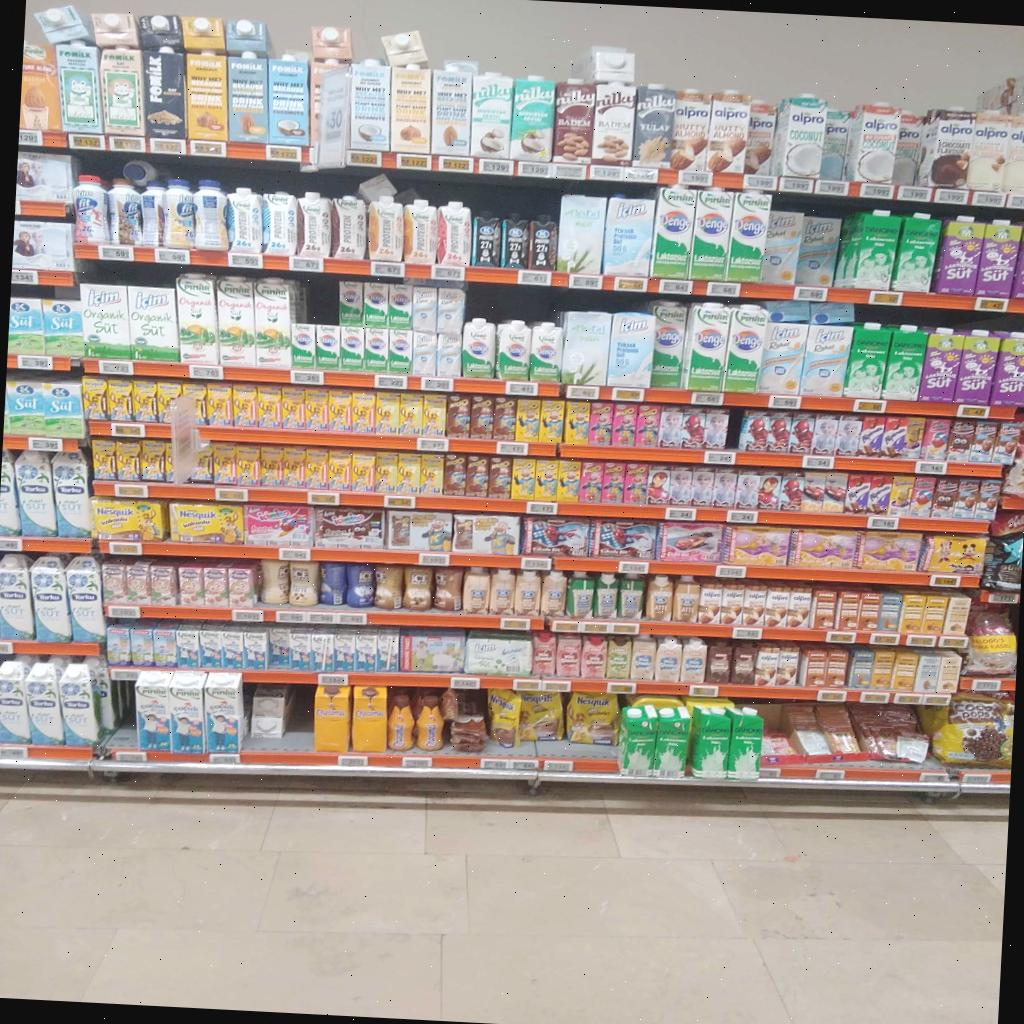price_tag: (436, 154, 474, 174), (550, 163, 588, 181), (658, 278, 694, 296), (418, 376, 454, 394), (706, 280, 742, 298), (290, 369, 325, 387), (150, 138, 187, 155), (190, 141, 227, 158), (265, 145, 302, 162), (98, 245, 134, 262), (227, 252, 263, 269), (155, 248, 191, 265), (370, 260, 404, 278), (974, 296, 1008, 314), (68, 134, 106, 150), (504, 381, 539, 398), (347, 151, 382, 168), (678, 170, 713, 187), (625, 166, 658, 184), (110, 137, 147, 153), (814, 180, 848, 197), (290, 256, 324, 273), (214, 488, 250, 504), (778, 177, 814, 193), (859, 183, 895, 199), (309, 611, 350, 625), (934, 189, 969, 205), (99, 360, 134, 376), (971, 192, 1006, 208), (479, 160, 514, 176), (896, 187, 933, 202), (397, 154, 431, 170), (590, 165, 624, 181), (615, 276, 647, 293), (16, 355, 52, 370), (107, 541, 143, 556), (28, 437, 64, 452), (768, 394, 801, 410), (431, 266, 466, 281), (189, 365, 224, 380), (449, 675, 481, 691), (496, 441, 528, 457), (518, 270, 552, 285), (115, 483, 149, 498), (111, 423, 145, 438), (794, 287, 828, 302), (416, 438, 450, 453), (853, 399, 886, 414), (957, 404, 990, 419), (374, 375, 407, 390), (383, 495, 416, 510), (569, 275, 602, 290), (565, 386, 600, 400), (607, 622, 639, 637), (915, 460, 947, 475), (518, 162, 550, 177), (106, 605, 140, 619), (744, 176, 778, 190), (869, 292, 903, 306), (526, 501, 557, 516), (690, 392, 723, 406), (307, 492, 340, 506), (231, 609, 264, 623), (334, 612, 367, 626), (612, 387, 644, 401), (418, 553, 450, 567), (726, 510, 758, 524), (867, 516, 899, 530), (278, 548, 312, 561), (715, 565, 746, 579), (970, 678, 1001, 692), (869, 632, 900, 646), (665, 507, 696, 521), (542, 759, 573, 773), (618, 561, 649, 575), (815, 767, 845, 781), (513, 678, 543, 692), (522, 557, 552, 571), (551, 620, 583, 633), (960, 772, 992, 785), (802, 456, 834, 469), (985, 592, 1019, 604), (817, 689, 846, 703), (0, 745, 29, 759), (12, 270, 39, 285), (337, 754, 368, 767), (402, 756, 433, 769), (276, 611, 307, 624), (499, 618, 530, 631), (704, 452, 735, 465), (689, 685, 720, 698), (930, 574, 960, 587), (581, 622, 611, 635), (732, 627, 762, 640), (110, 668, 140, 681), (826, 631, 856, 644), (542, 679, 572, 692), (939, 636, 969, 649), (113, 751, 148, 762), (208, 753, 240, 765), (894, 692, 921, 706), (510, 758, 539, 771), (923, 694, 951, 707), (906, 635, 936, 647), (607, 682, 637, 694), (481, 758, 510, 770), (860, 692, 889, 704), (919, 772, 949, 783), (0, 537, 23, 551), (759, 768, 781, 779), (1007, 194, 1023, 209), (0, 640, 14, 655)
product: (835, 210, 901, 289), (770, 94, 827, 178), (845, 103, 901, 184), (919, 108, 974, 188), (56, 43, 103, 134), (720, 305, 767, 393), (603, 197, 655, 276), (651, 188, 696, 279), (933, 217, 985, 295), (100, 47, 145, 137), (143, 46, 186, 140), (689, 189, 733, 280), (727, 192, 771, 283), (557, 195, 607, 274), (891, 214, 941, 292), (80, 283, 131, 359), (686, 303, 730, 391), (510, 76, 555, 162), (800, 325, 854, 396), (176, 275, 219, 364), (129, 286, 179, 362), (19, 43, 62, 131), (228, 51, 269, 143), (350, 59, 391, 151), (561, 312, 612, 385), (757, 322, 808, 395), (269, 55, 310, 145), (187, 52, 228, 141), (390, 64, 431, 153), (471, 72, 513, 157), (30, 557, 72, 642), (553, 80, 595, 164), (707, 91, 750, 173), (204, 672, 247, 754), (607, 312, 654, 387), (66, 556, 106, 644), (976, 221, 1022, 297), (633, 83, 675, 166), (15, 451, 56, 536), (592, 83, 635, 164), (52, 451, 92, 538), (966, 111, 1010, 190), (845, 323, 891, 398), (431, 71, 471, 157), (217, 278, 256, 366), (954, 331, 1001, 404), (253, 279, 291, 368), (882, 326, 927, 401), (918, 328, 963, 402), (92, 498, 167, 542), (671, 89, 711, 171), (60, 664, 100, 746), (651, 301, 688, 388), (12, 220, 75, 271), (16, 151, 76, 204), (26, 663, 65, 744), (796, 216, 841, 286), (761, 211, 804, 284), (0, 554, 36, 640), (169, 502, 243, 543), (135, 671, 172, 753), (169, 672, 206, 754), (244, 504, 313, 546), (453, 513, 520, 556), (465, 633, 532, 676), (689, 708, 730, 778), (400, 630, 465, 674), (314, 507, 383, 548), (620, 704, 658, 777), (386, 510, 452, 552), (567, 692, 619, 745), (724, 525, 791, 566), (652, 706, 690, 778), (522, 517, 592, 556), (789, 529, 857, 569), (855, 531, 922, 571), (920, 535, 987, 575), (657, 522, 722, 563), (726, 708, 763, 780), (0, 661, 32, 743), (593, 519, 656, 560), (194, 179, 228, 251), (42, 300, 84, 358), (74, 175, 109, 244), (314, 685, 350, 752), (42, 383, 85, 438), (368, 196, 403, 262), (991, 336, 1024, 406), (744, 102, 776, 174), (162, 179, 195, 248), (107, 179, 141, 245), (228, 187, 262, 253), (331, 196, 366, 259), (353, 686, 386, 752), (893, 111, 922, 185), (404, 199, 437, 264), (438, 201, 471, 266), (5, 382, 45, 435), (263, 193, 297, 254), (8, 298, 45, 354), (520, 692, 563, 740), (820, 109, 849, 180), (299, 192, 330, 257), (497, 321, 531, 380), (462, 318, 494, 378), (0, 449, 22, 536), (488, 689, 521, 747), (531, 323, 562, 381), (140, 181, 166, 246), (387, 694, 414, 751), (416, 694, 443, 751), (674, 637, 707, 683), (528, 216, 556, 270), (472, 215, 499, 267), (288, 562, 319, 607), (502, 216, 528, 268), (566, 571, 594, 619), (437, 288, 465, 335), (920, 419, 951, 461), (319, 562, 349, 605), (576, 635, 606, 678), (462, 568, 490, 614), (673, 576, 700, 623), (362, 282, 390, 327), (261, 559, 289, 604), (375, 565, 404, 608), (346, 564, 374, 608), (739, 411, 769, 452), (410, 329, 436, 376), (611, 402, 638, 447), (646, 576, 673, 621), (556, 635, 584, 678), (941, 595, 971, 635), (228, 566, 257, 607), (177, 625, 204, 669), (656, 638, 683, 682), (131, 380, 159, 422), (887, 475, 915, 517), (435, 568, 463, 610), (412, 286, 437, 333), (386, 284, 412, 329), (538, 400, 565, 443), (405, 567, 432, 610), (897, 593, 926, 633), (292, 323, 317, 369), (594, 574, 619, 620), (150, 564, 178, 605), (514, 571, 540, 615), (909, 476, 936, 518), (974, 480, 1001, 522), (631, 636, 656, 681), (420, 393, 446, 436), (588, 402, 614, 445), (375, 628, 401, 671), (948, 420, 975, 461), (395, 453, 422, 494), (913, 651, 940, 692), (532, 631, 556, 677), (436, 333, 461, 377), (490, 570, 515, 614), (541, 571, 566, 615), (156, 380, 182, 422), (511, 458, 537, 500), (101, 562, 127, 604), (493, 396, 517, 441), (858, 417, 885, 457), (931, 478, 958, 518), (835, 591, 862, 631), (82, 377, 107, 420), (233, 384, 258, 427), (515, 399, 540, 442), (564, 401, 589, 444), (635, 404, 660, 447), (107, 379, 133, 420), (351, 391, 377, 432), (178, 565, 204, 606), (203, 566, 229, 607), (605, 637, 631, 678), (800, 649, 828, 687), (339, 281, 363, 325), (835, 416, 862, 455), (921, 595, 948, 634), (257, 385, 282, 427), (328, 389, 353, 431), (375, 392, 400, 434), (206, 385, 232, 425), (970, 422, 996, 462), (845, 474, 871, 514), (953, 479, 979, 519), (763, 587, 789, 627), (876, 591, 902, 631), (707, 644, 733, 684), (848, 648, 874, 688), (871, 649, 897, 689), (316, 325, 339, 370), (389, 329, 412, 374), (399, 392, 423, 435), (901, 416, 925, 459), (557, 459, 581, 502), (130, 623, 154, 666), (882, 416, 907, 457), (442, 454, 467, 495), (578, 462, 603, 503), (623, 463, 648, 504), (619, 578, 644, 619), (812, 415, 838, 454), (821, 474, 847, 513), (718, 585, 744, 624), (811, 590, 837, 629), (892, 652, 918, 691), (365, 328, 388, 372), (534, 459, 558, 501), (127, 563, 151, 605), (937, 651, 961, 693), (658, 407, 683, 447), (601, 463, 626, 503), (106, 624, 131, 664), (697, 584, 722, 624), (742, 586, 767, 626), (754, 645, 779, 685), (734, 471, 761, 508), (341, 326, 363, 371), (183, 382, 207, 423), (282, 387, 306, 428), (704, 409, 729, 448), (787, 589, 812, 628), (731, 645, 756, 684), (465, 455, 488, 497), (244, 628, 267, 670), (267, 628, 290, 670), (420, 454, 444, 494), (355, 632, 379, 672), (93, 439, 116, 480), (447, 396, 470, 437), (489, 457, 512, 498), (154, 627, 177, 668), (333, 631, 356, 672), (801, 473, 825, 512), (868, 475, 892, 514), (826, 648, 850, 687), (305, 389, 328, 429), (713, 467, 736, 507), (788, 415, 812, 453), (471, 397, 493, 438), (222, 630, 244, 671), (766, 417, 791, 453), (858, 592, 881, 631), (312, 633, 335, 672), (668, 468, 692, 505), (757, 473, 781, 510), (780, 475, 804, 512), (1011, 231, 1024, 298), (290, 630, 311, 671), (647, 467, 670, 504), (201, 628, 221, 670), (777, 647, 799, 685), (692, 470, 714, 506), (684, 414, 705, 447)
